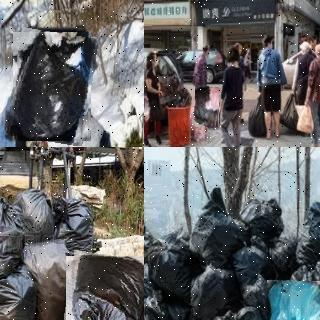Garbage: (9, 30, 95, 144), (62, 253, 144, 320), (19, 233, 80, 320), (49, 191, 106, 277), (189, 187, 242, 262), (146, 236, 203, 304), (4, 181, 67, 239), (189, 262, 239, 320), (0, 261, 38, 320), (0, 194, 24, 285), (266, 280, 320, 320), (238, 197, 283, 243), (294, 201, 320, 265), (194, 86, 220, 128), (247, 92, 267, 141), (202, 305, 267, 320), (279, 92, 298, 131), (295, 105, 314, 133)
